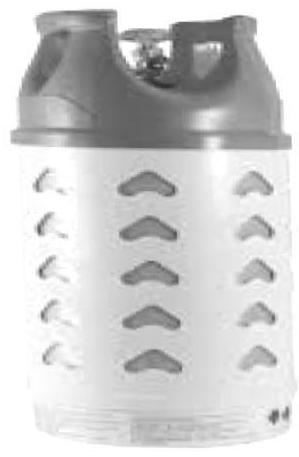cylinder: (1, 1, 299, 457)
